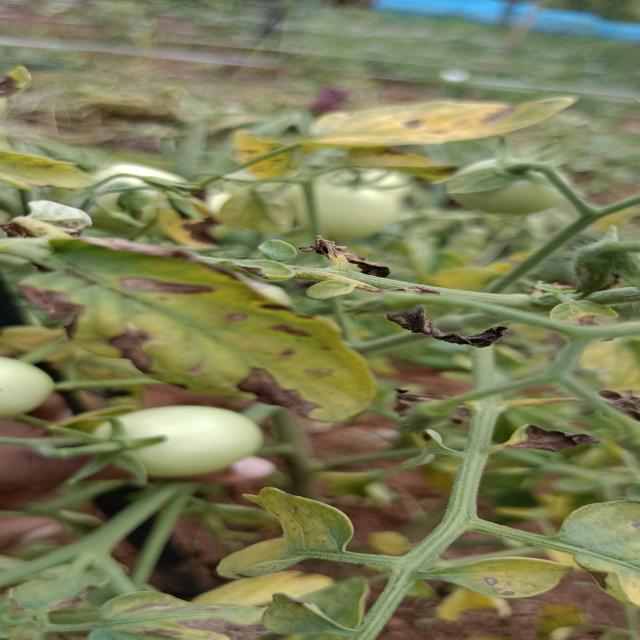tomato_early blight: (18, 237, 374, 421), (311, 77, 596, 152), (220, 476, 345, 578), (544, 493, 640, 601), (426, 549, 573, 603)
